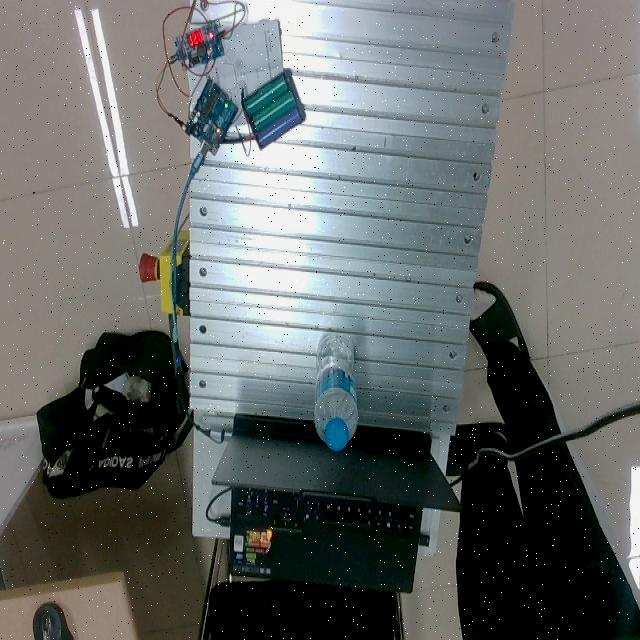lavie: (313, 333, 358, 451)
